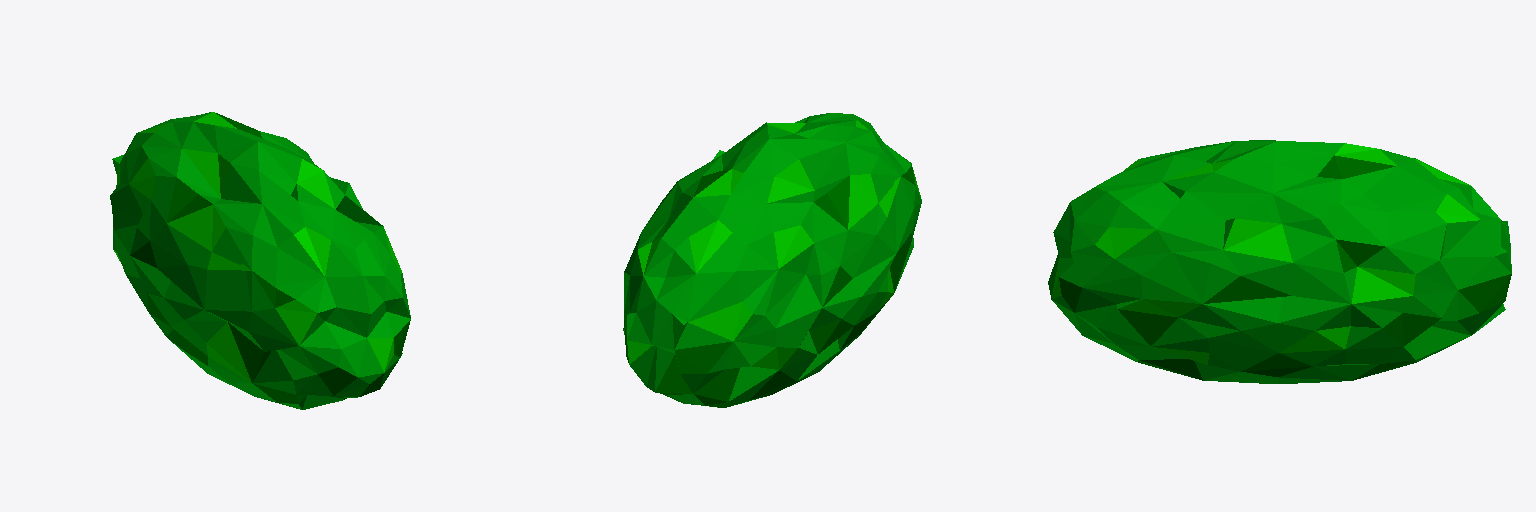
Rendered from bush1.obj.
The picture shows the model from 3 angles: view 1: azimuth 30°, elevation 25°; view 2: azimuth 150°, elevation 25°; view 3: azimuth 270°, elevation 25°; orthographic projection.
Visible parts, largest first — view 1: Icosphere; view 2: Icosphere; view 3: Icosphere.
Part boxes in pixels (bbox=[...]): Icosphere: bbox=[110, 112, 410, 409]; Icosphere: bbox=[623, 113, 921, 407]; Icosphere: bbox=[1048, 140, 1511, 383].
Bounding box in the file's own units: 2.41 × 2.86 × 5.21.